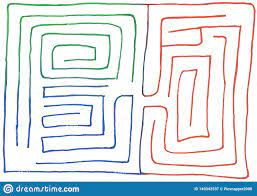maze: (3, 3, 251, 180)
